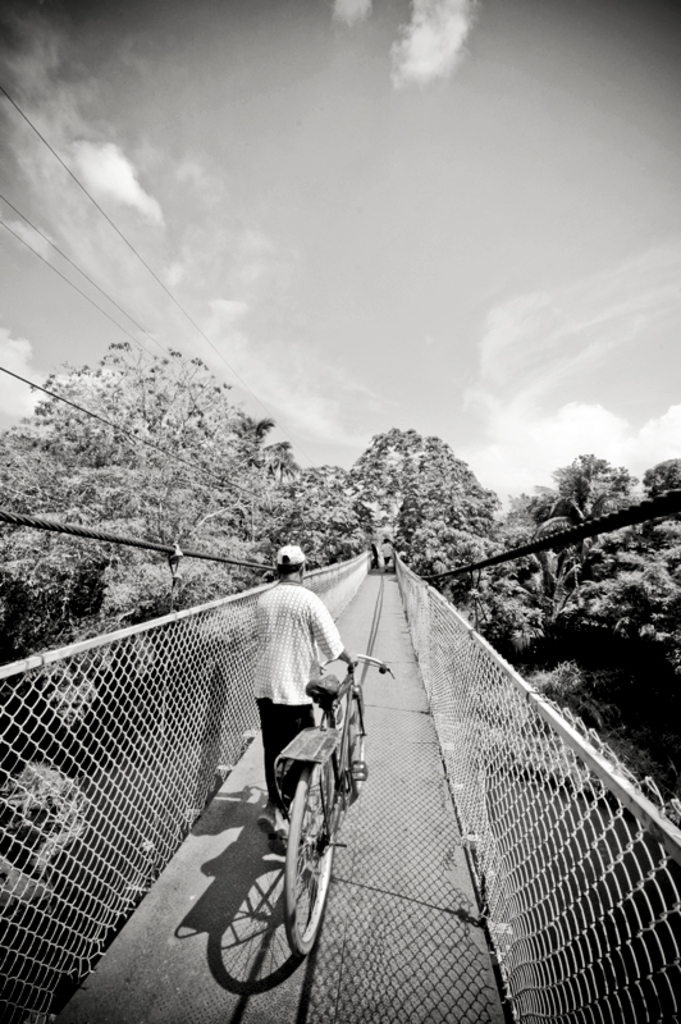Bike_away: (275, 645, 395, 965)
